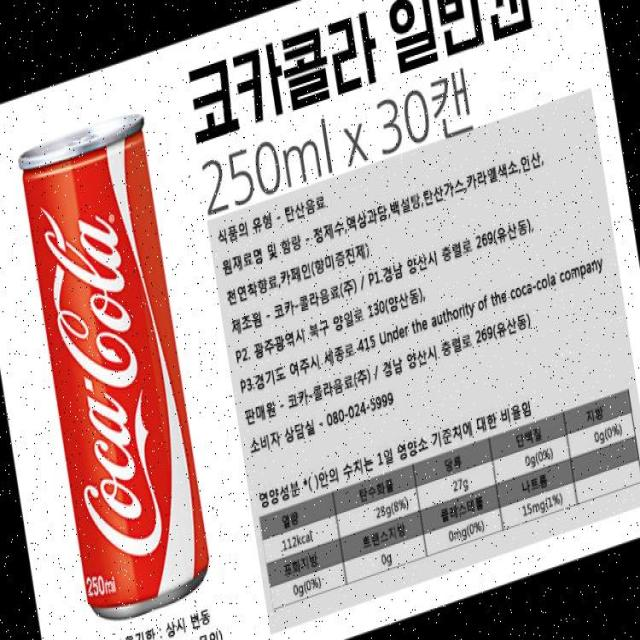coca-cola: (14, 104, 220, 636)
